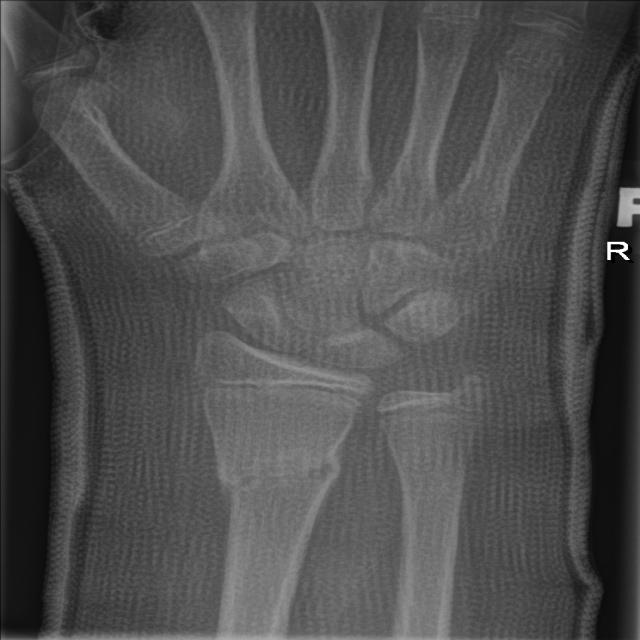radius fracture: (196, 414, 352, 626)
ulna fracture: (422, 358, 526, 554)
